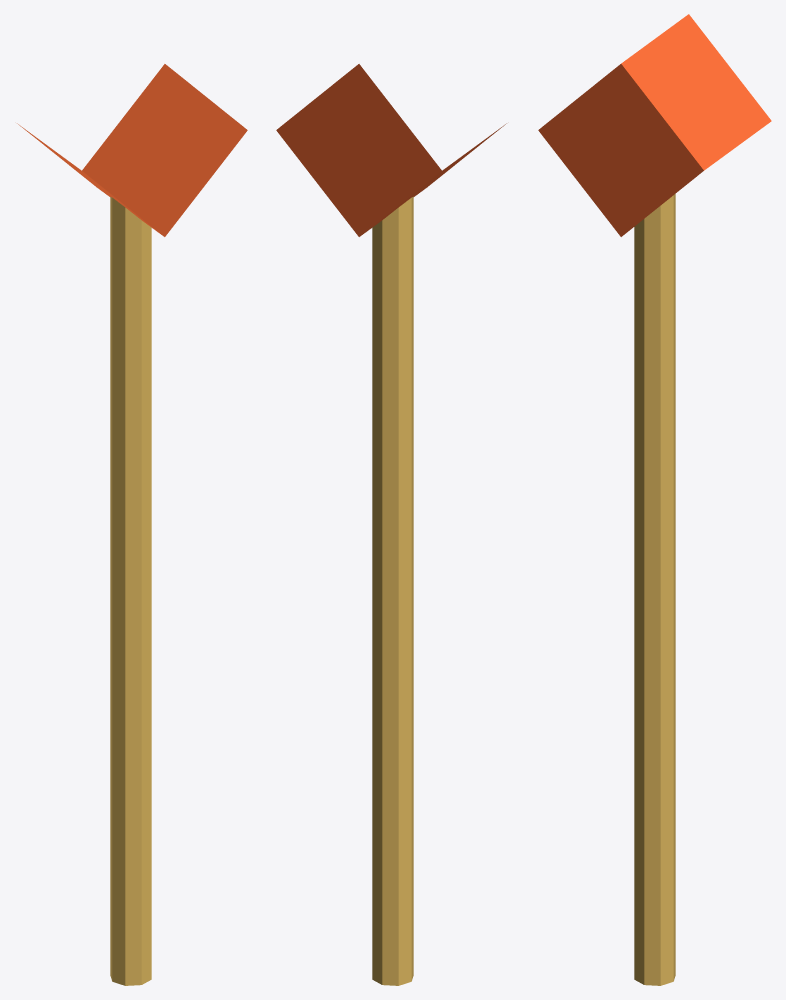
The model's file is lina.glb.
3 renders of one model, left to right at view 1: azimuth 30°, elevation 25°; view 2: azimuth 150°, elevation 25°; view 3: azimuth 330°, elevation 25°, orthographic.
Parts seen in each view (by area): view 1: lina-shaft, lina-head-gem; view 2: lina-shaft, lina-head-gem; view 3: lina-shaft, lina-head-gem.
Part boxes in pixels (box(x1,y1,x2,y2)): lina-shaft: box(110, 196, 151, 985); lina-head-gem: box(17, 64, 247, 236); lina-shaft: box(372, 196, 413, 985); lina-head-gem: box(276, 64, 506, 236); lina-shaft: box(634, 194, 675, 985); lina-head-gem: box(538, 14, 771, 236).
Bounding box in the file's own units: 0.3111 × 1.68 × 0.22.
